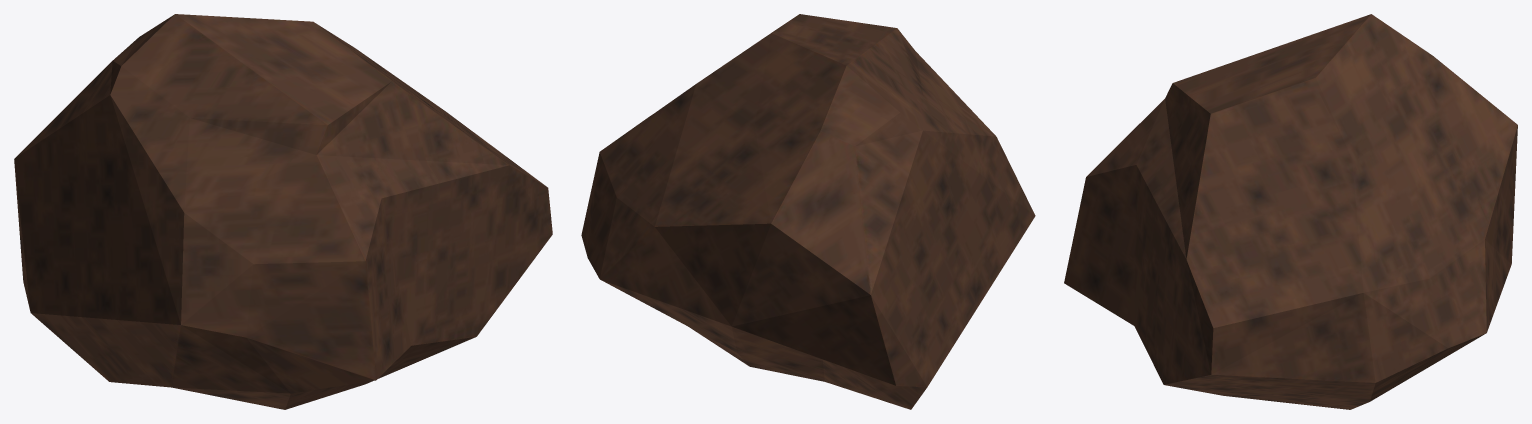
Rendered from Stone_1.fbx.
3 renders of one model, left to right at view 1: azimuth 30°, elevation 25°; view 2: azimuth 150°, elevation 25°; view 3: azimuth 270°, elevation 25°, orthographic. The views are drawn at different scales.
Visible parts, largest first — view 1: Stone_lp; view 2: Stone_lp; view 3: Stone_lp.
Boxes of the visible parts, <box> form: Stone_lp: <box>14,14,552,409</box>; Stone_lp: <box>581,14,1035,409</box>; Stone_lp: <box>1064,14,1517,409</box>.
Size of the model in its own units: 300 by 260 by 299.
Materials: 1 (1 with a texture image).
